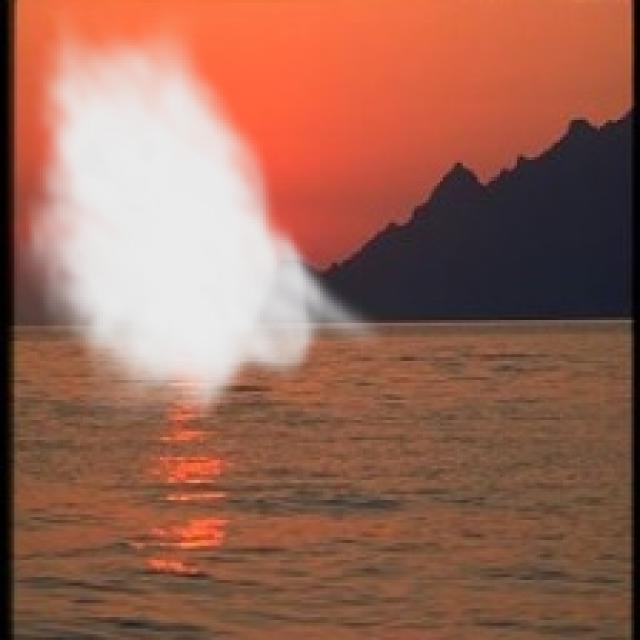Smoke: (17, 6, 389, 428)
